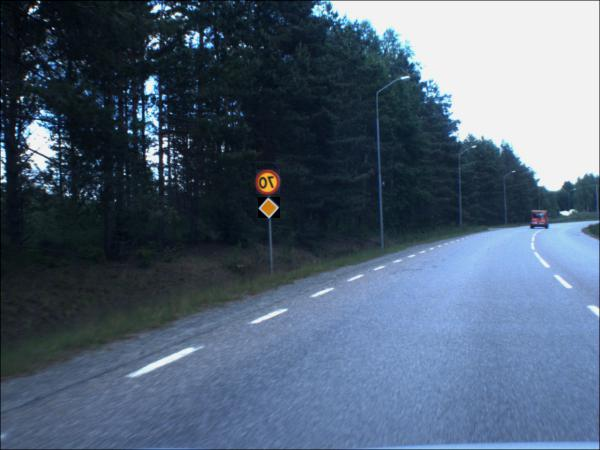70_SIGN: (256, 170, 281, 196)
PRIORITY_ROAD: (258, 198, 281, 220)
